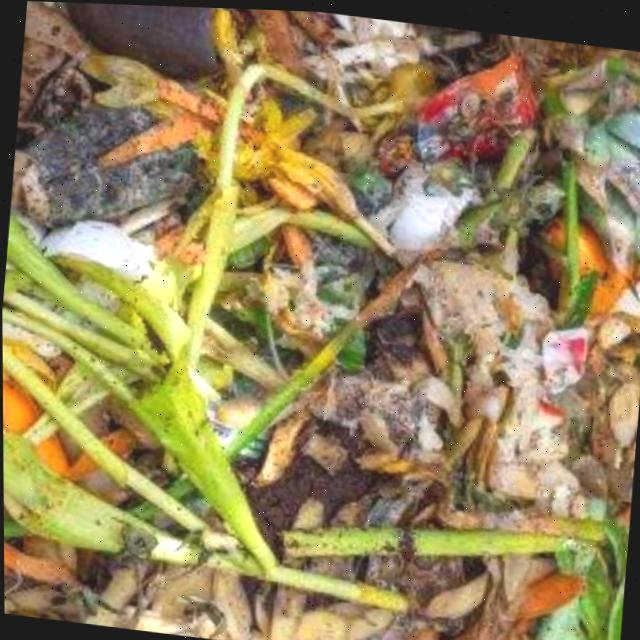Garbage: (2, 1, 640, 640)
